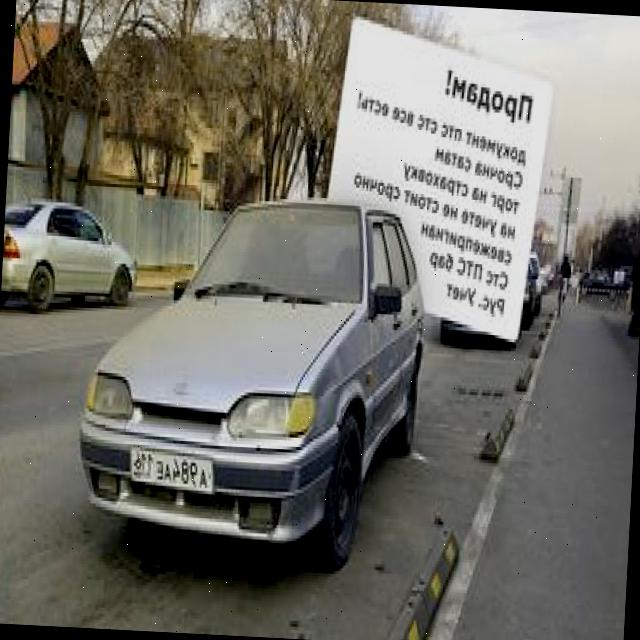number-plates: (130, 452, 216, 492)
